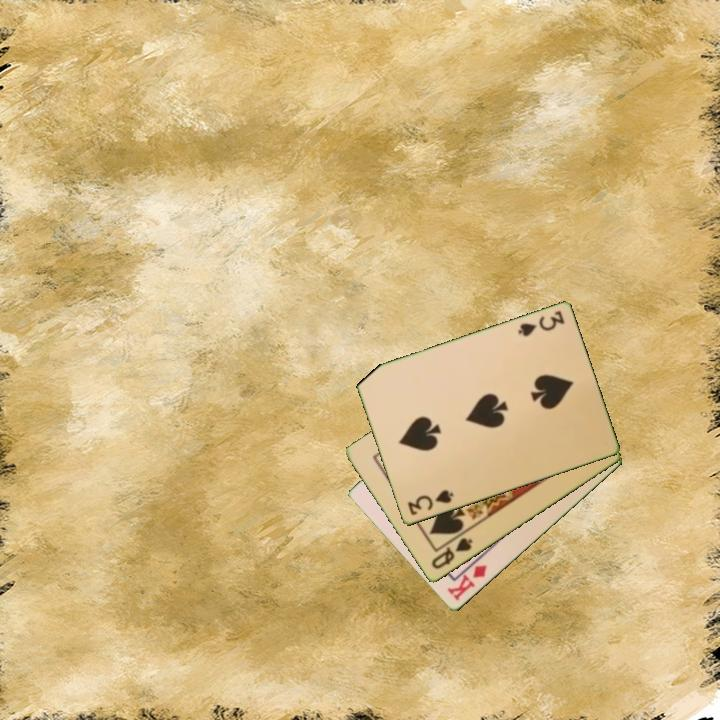3s: (514, 307, 567, 340), (404, 486, 456, 519)
Kd: (443, 561, 490, 604)
Qs: (428, 534, 476, 572)
